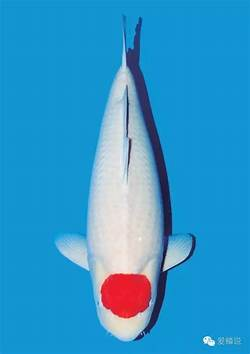sun: (53, 14, 195, 343)
